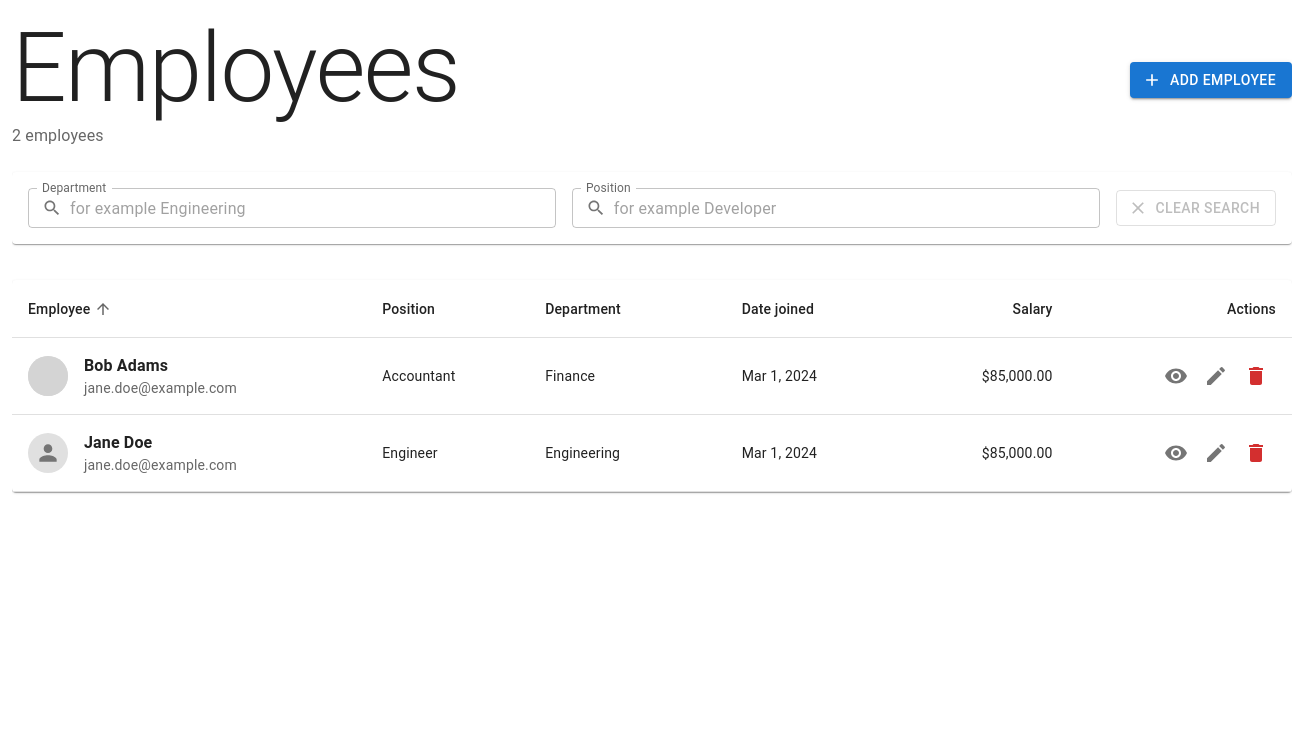
Scenario: EmployeeListPage: searching › says so when nothing matches, and keeps the search bar to try again
In the field labelled "Department": (313, 208) [70, 188, 556, 228], type "nothing"
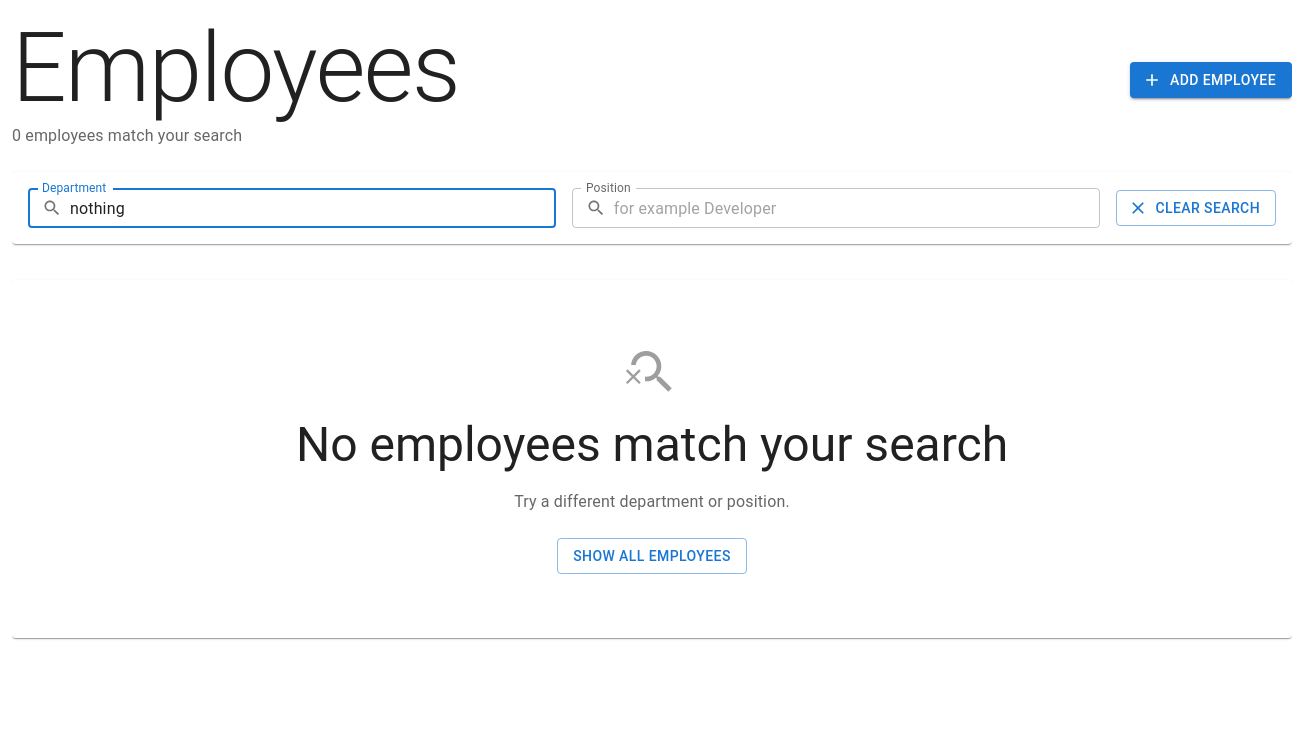
Expected: the form is shown, [12, 172, 1291, 244]
Now the heading "No employees match your search" is shown, box [296, 416, 1008, 473]
Click the button "Show all employees": (652, 556) [557, 538, 747, 574]
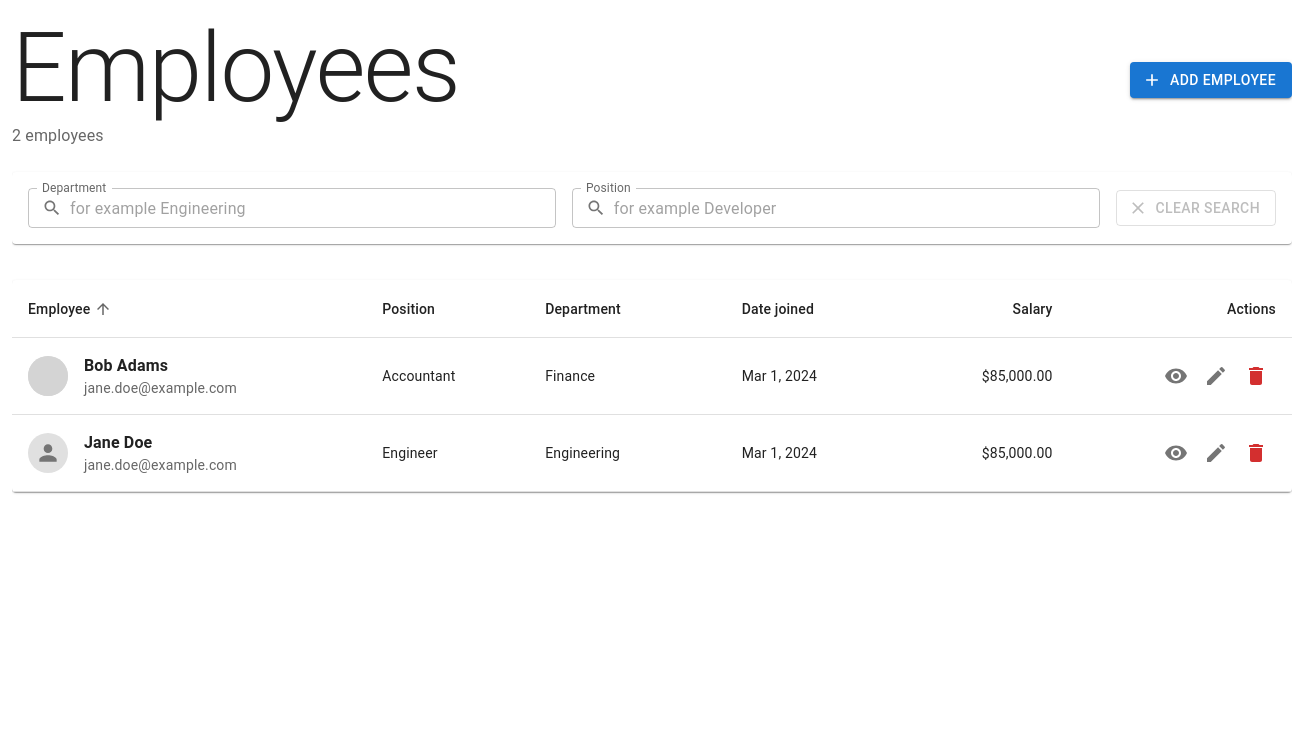
Now the row "Jane Doe" is shown, box [12, 415, 1291, 492]
